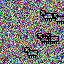sheep: (40, 9, 54, 22), (45, 33, 60, 45), (36, 33, 50, 44), (24, 47, 38, 58), (53, 13, 64, 24)
